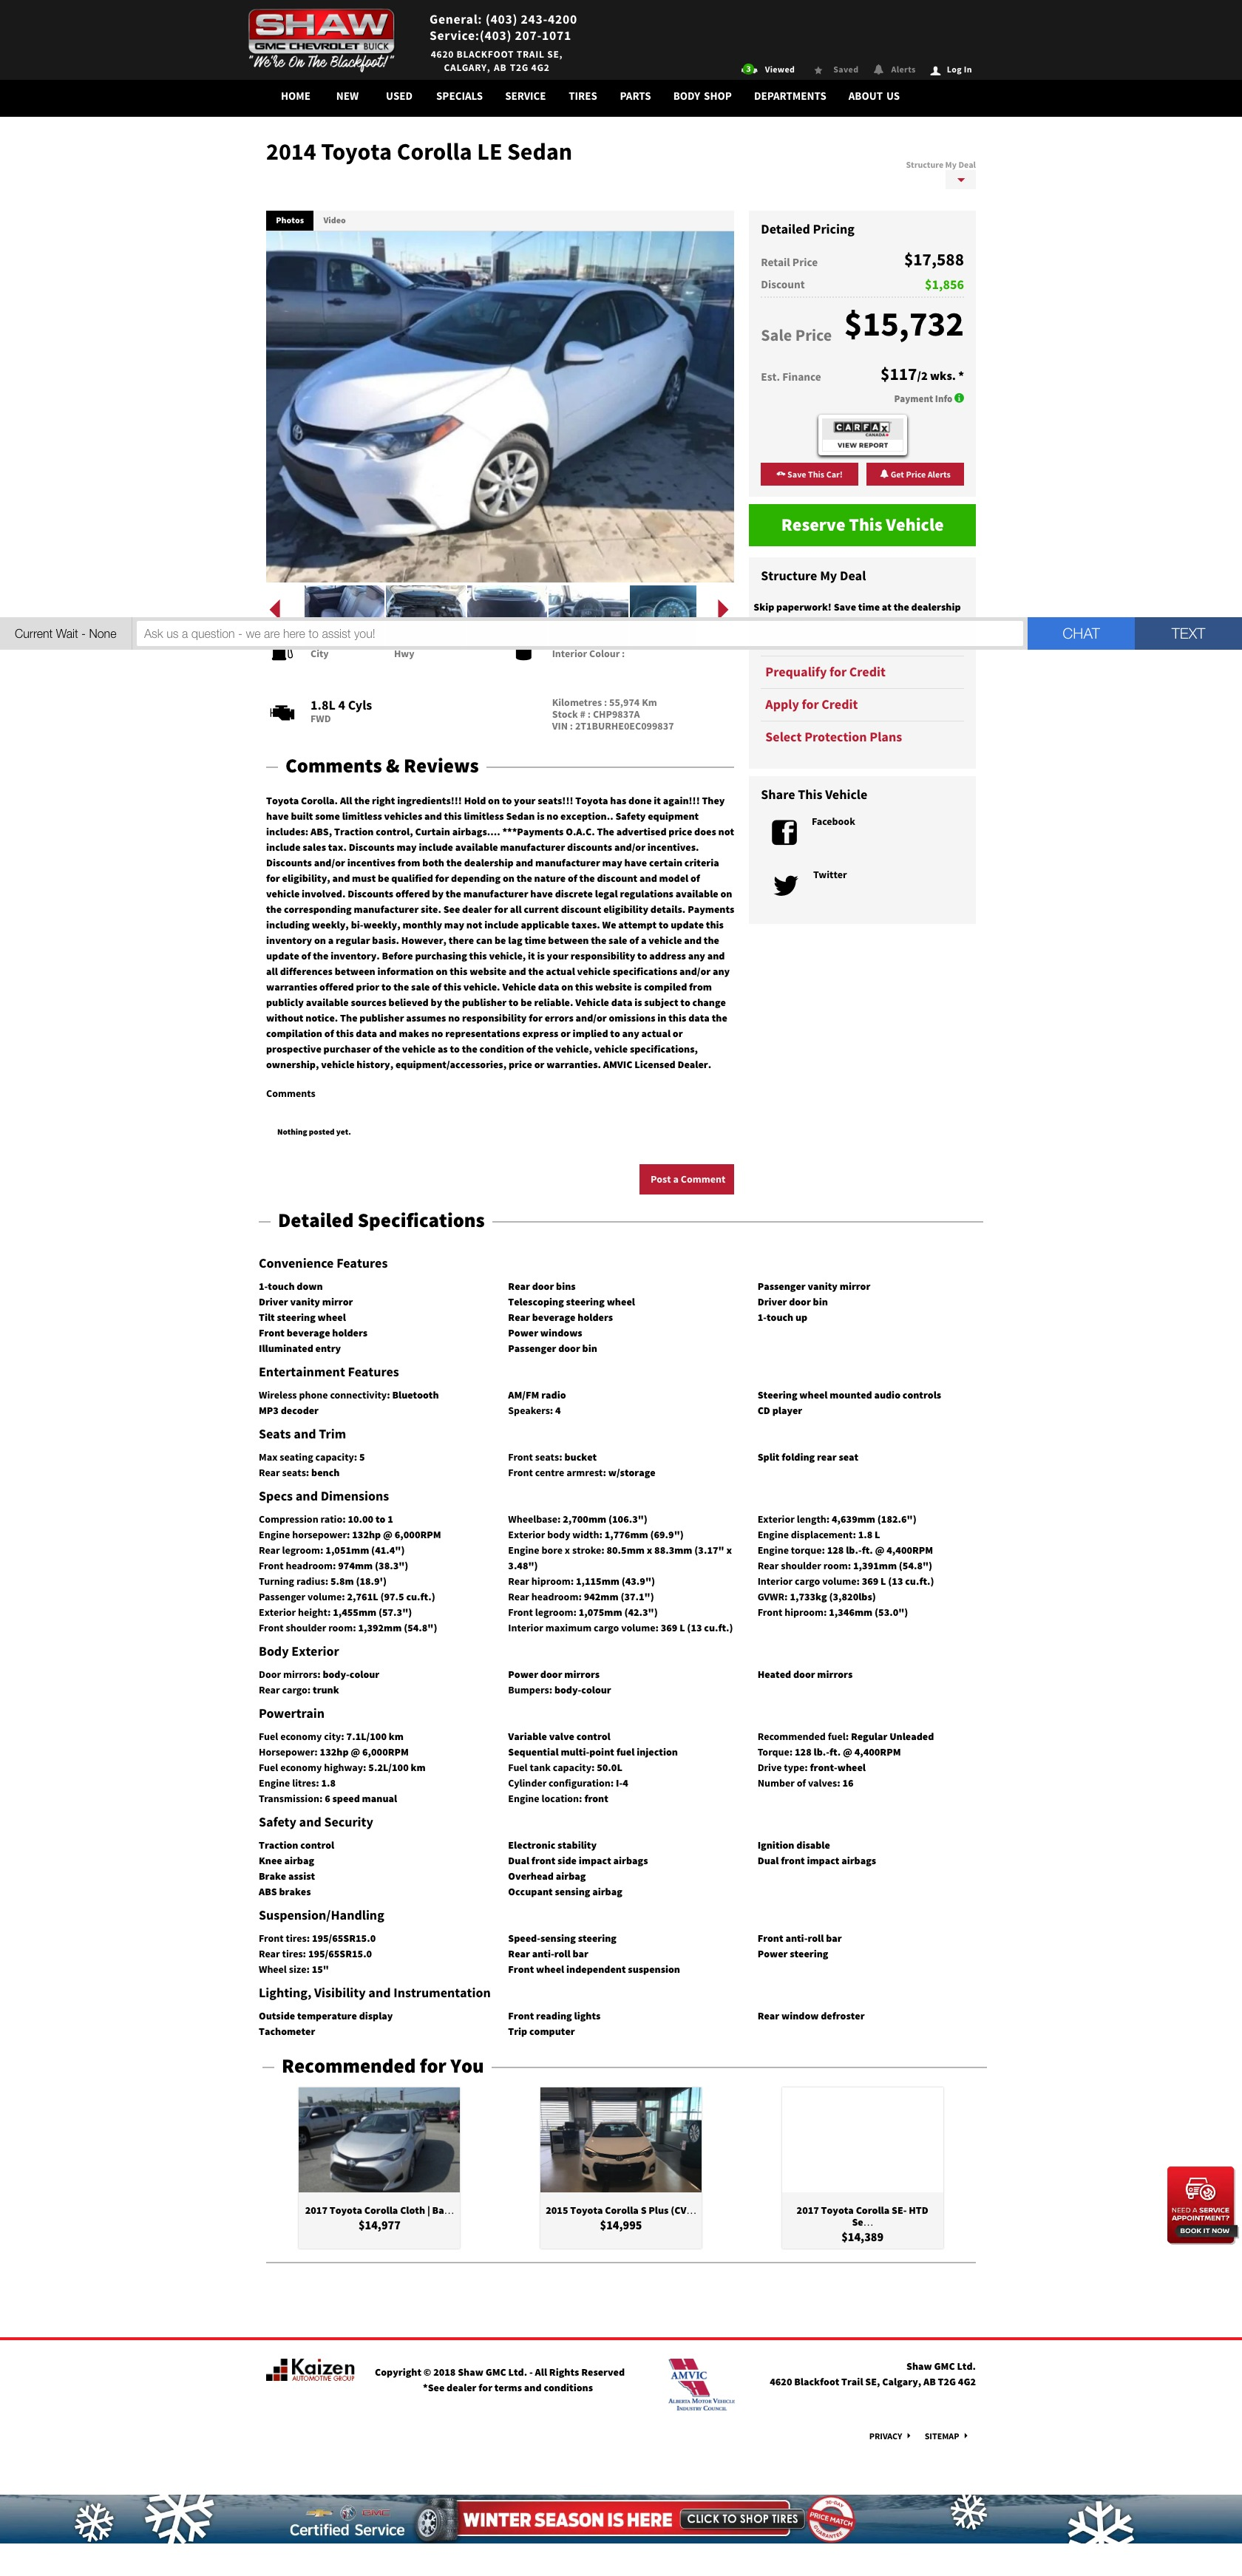car: (716, 598, 729, 619)
